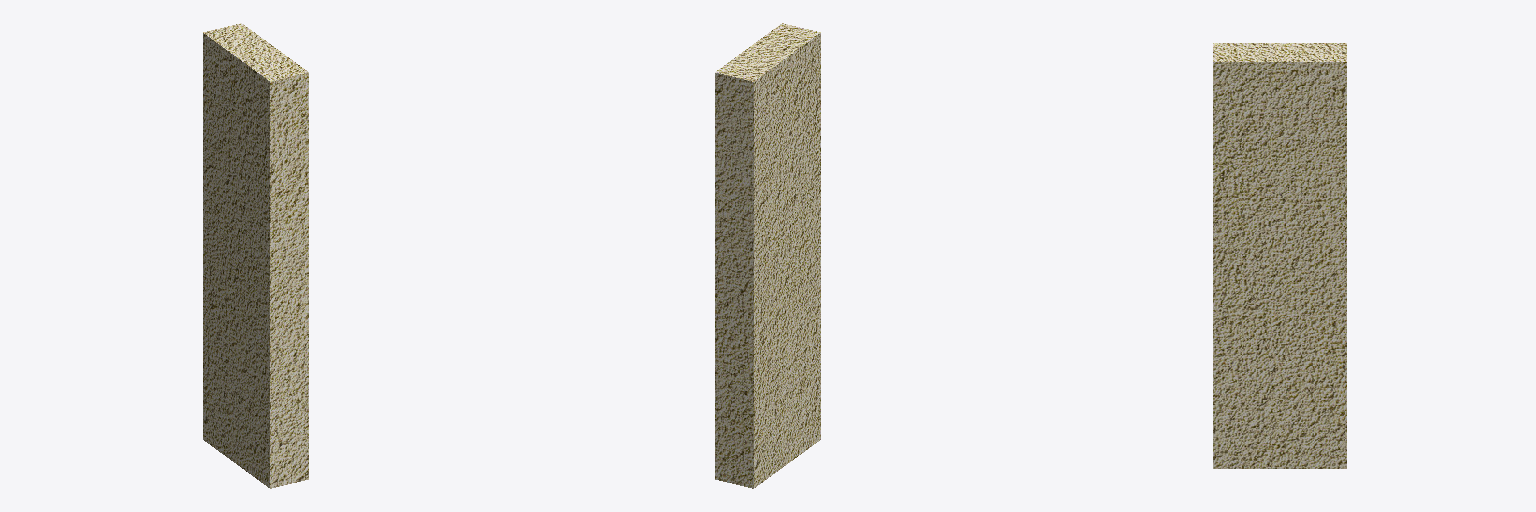
3 views of the same model, side by side, from view 1: azimuth 30°, elevation 25°; view 2: azimuth 150°, elevation 25°; view 3: azimuth 270°, elevation 25° (orthographic).
Parts seen in each view (by area): view 1: Wall_Straight; view 2: Wall_Straight; view 3: Wall_Straight.
Part boxes in pixels (x1,y1,x2,y2): Wall_Straight: (203, 23, 308, 488); Wall_Straight: (715, 23, 820, 488); Wall_Straight: (1213, 43, 1346, 468).
Size of the model in its own units: 1 by 10 by 3.
1 materials, 1 textured.